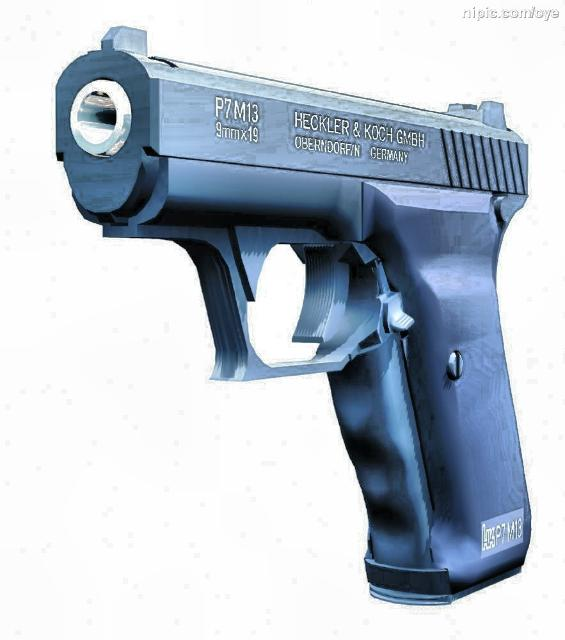pistol: (45, 23, 530, 604)
